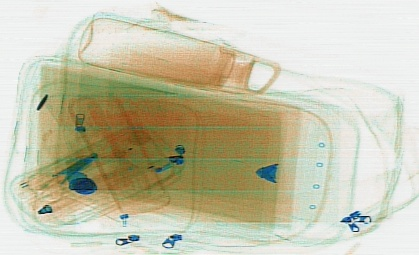scissors: (26, 151, 96, 205)
